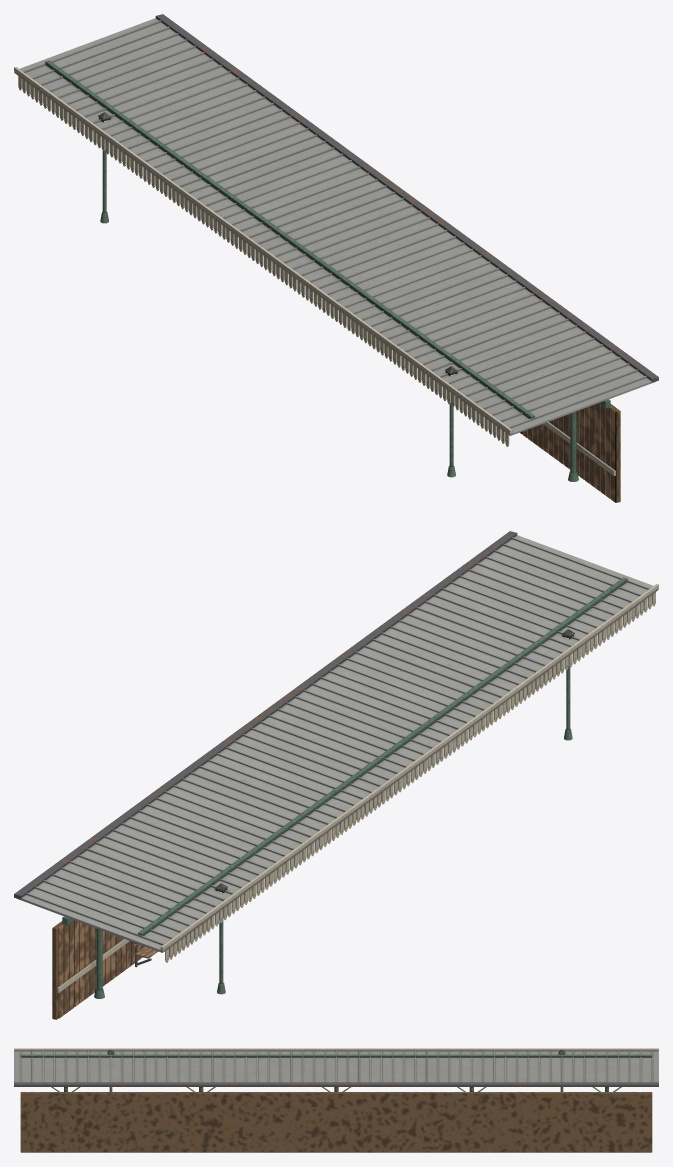
Rendered from station_shelter.glb.
The picture shows the model from 3 angles, top to bottom: view 1: azimuth 30°, elevation 25°; view 2: azimuth 150°, elevation 25°; view 3: azimuth 270°, elevation 25°; orthographic projection. The views are drawn at different scales.
Visible parts, largest first — view 1: StationShelter; view 2: StationShelter; view 3: StationShelter.
Boxes of the visible parts, x1,y1,x2,y2 form: StationShelter: (14, 14, 658, 502); StationShelter: (14, 531, 658, 1019); StationShelter: (14, 1048, 658, 1152).
Size of the model in its own units: 4.97 by 3.84 by 28.6.
10 materials, 10 textured.
